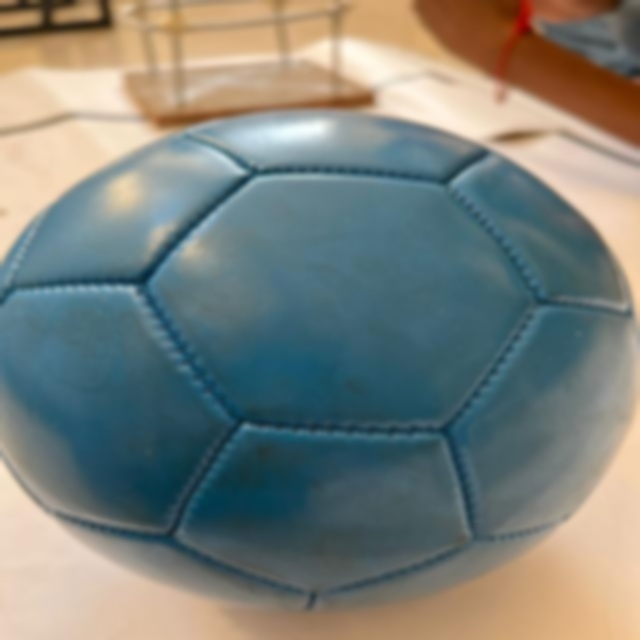blue_ball: (0, 111, 640, 608)
silo: (115, 0, 385, 113)
